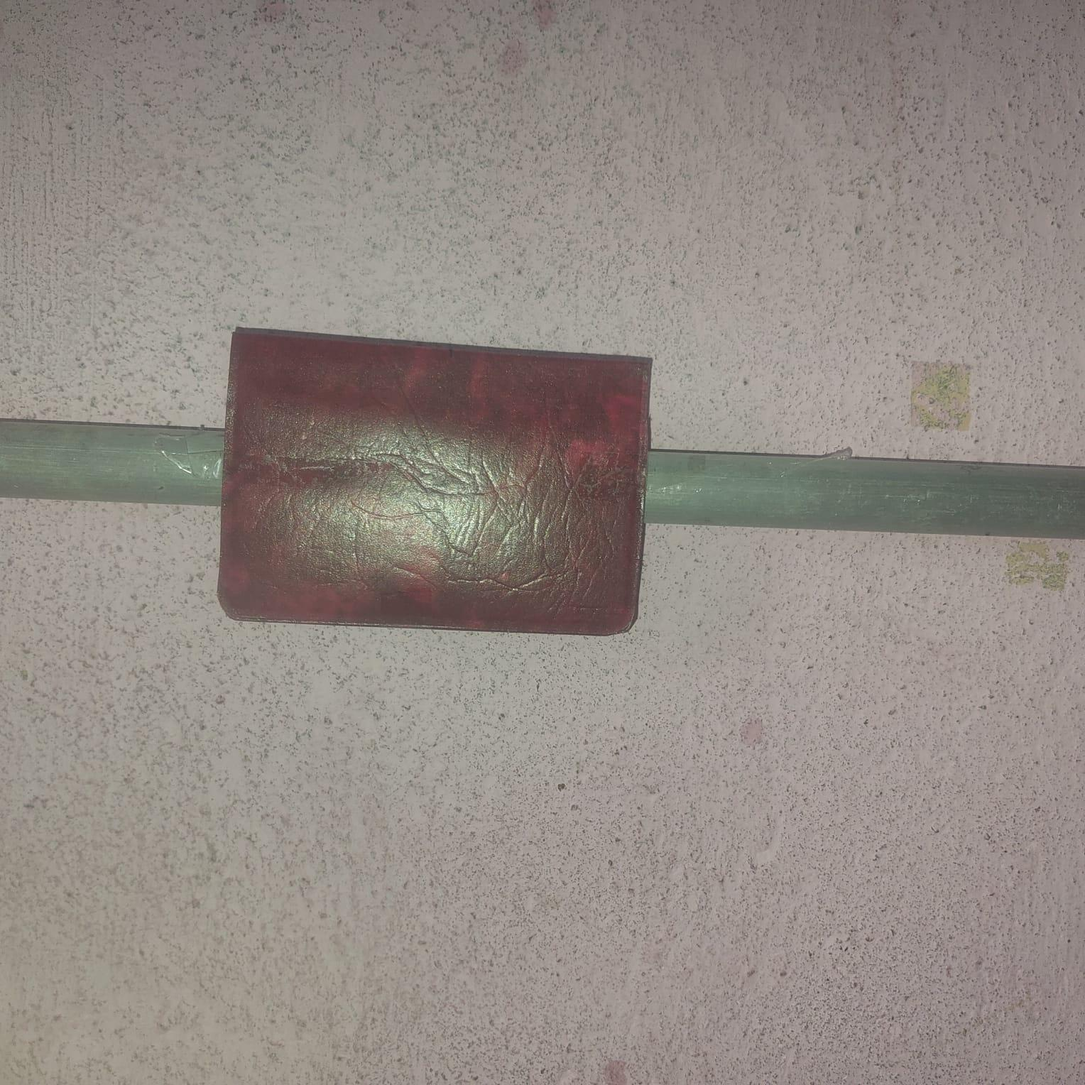wallet: (222, 321, 656, 635)
